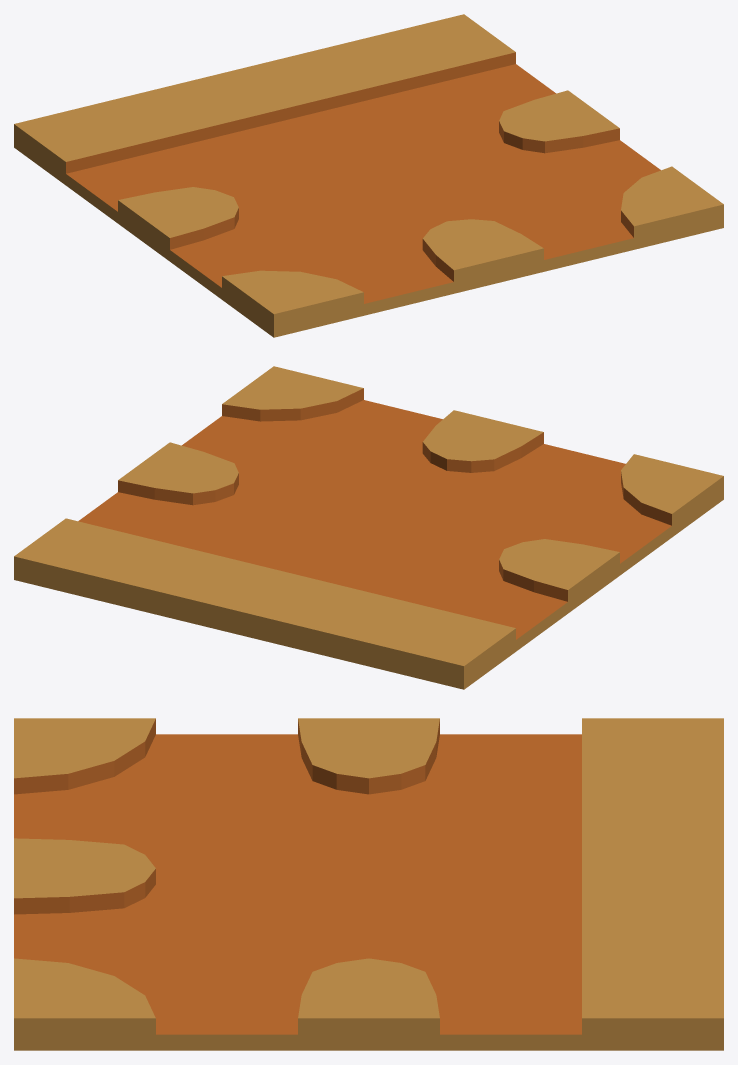
Rendered from Tile_Dirt_Road_T.fbx.
The picture shows the model from 3 angles, top to bottom: view 1: azimuth 30°, elevation 25°; view 2: azimuth 150°, elevation 25°; view 3: azimuth 270°, elevation 25°; orthographic projection. The views are drawn at different scales.
Visible parts, largest first — view 1: Tile_Dirt_Road_T; view 2: Tile_Dirt_Road_T; view 3: Tile_Dirt_Road_T.
Part boxes in pixels (left/top/right/bottom): Tile_Dirt_Road_T: left=14, top=14, right=723, bottom=337; Tile_Dirt_Road_T: left=14, top=366, right=723, bottom=689; Tile_Dirt_Road_T: left=14, top=718, right=723, bottom=1050.
Bounding box in the file's own units: 100 × 5 × 100.
